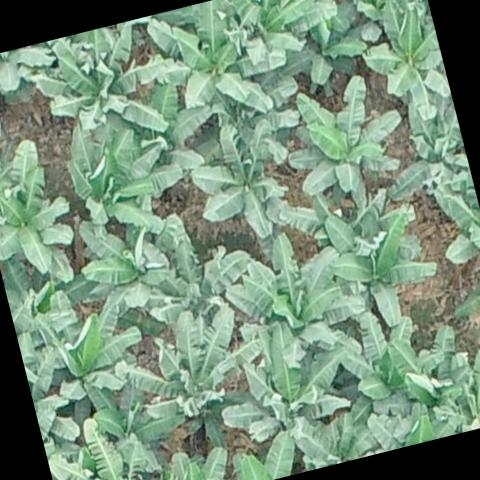Banana-plant: (30, 15, 180, 164), (206, 312, 358, 456), (126, 296, 274, 438), (278, 67, 416, 213), (54, 100, 192, 243), (320, 191, 449, 338), (216, 220, 354, 349), (141, 0, 277, 126), (181, 115, 295, 247), (72, 198, 186, 324), (34, 302, 154, 420), (80, 359, 194, 480), (332, 298, 452, 412), (137, 227, 263, 335), (369, 84, 472, 200), (0, 240, 108, 349), (354, 4, 452, 118), (40, 402, 183, 480), (0, 159, 82, 282), (381, 320, 470, 413), (223, 0, 345, 65), (273, 15, 370, 92), (417, 338, 480, 438), (290, 407, 382, 472), (329, 0, 434, 49), (0, 40, 58, 105)
